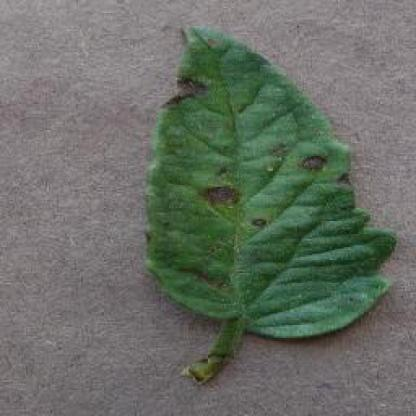Tomato_Blight: (145, 28, 395, 340)
